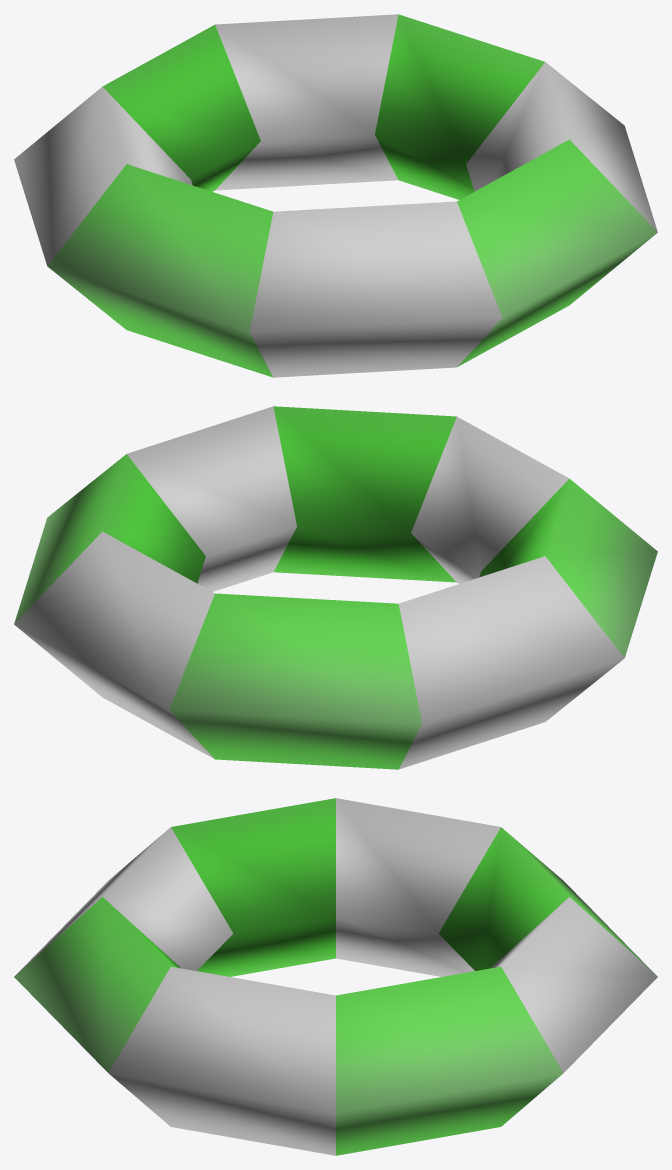
The model's file is RubbeRing_05.FBX.
3 renders of one model, top to bottom at view 1: azimuth 30°, elevation 25°; view 2: azimuth 150°, elevation 25°; view 3: azimuth 270°, elevation 25°, orthographic. The views are drawn at different scales.
Parts seen in each view (by area): view 1: RubbeRing_05; view 2: RubbeRing_05; view 3: RubbeRing_05.
Boxes of the visible parts, bbox=[...] form: RubbeRing_05: bbox=[14, 14, 657, 377]; RubbeRing_05: bbox=[14, 406, 657, 769]; RubbeRing_05: bbox=[14, 798, 657, 1155].
Bounding box in the file's own units: 0.4881 × 0.4881 × 0.1341.
